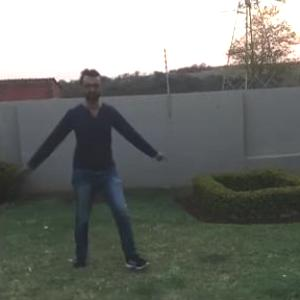land: (39, 78, 144, 232)
